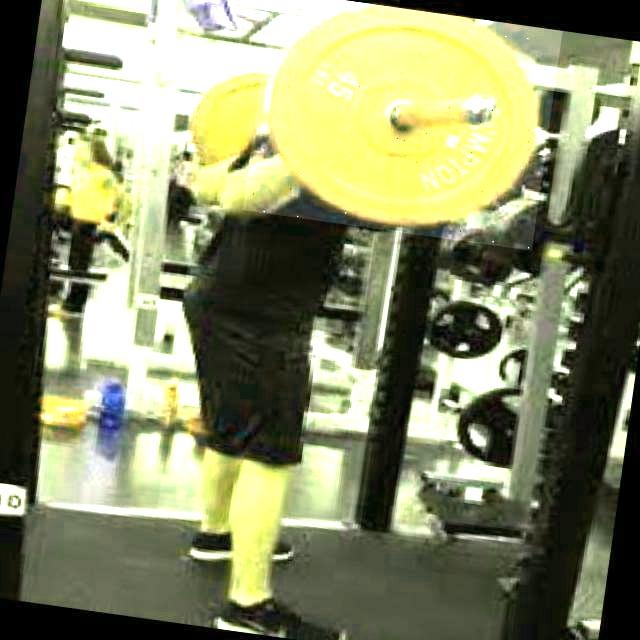barbell: (242, 1, 562, 251)
